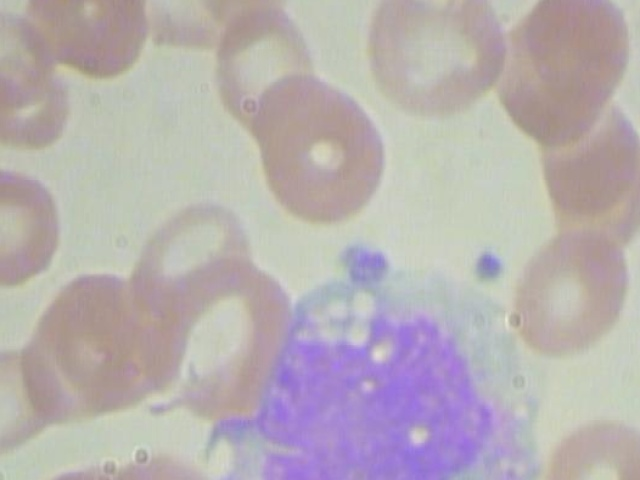RBC: (255, 75, 392, 232), (121, 174, 262, 326), (351, 0, 515, 121), (505, 217, 640, 358), (517, 0, 640, 125), (0, 149, 65, 291), (540, 410, 640, 480), (632, 254, 640, 400)
WBC: (202, 239, 549, 480)
